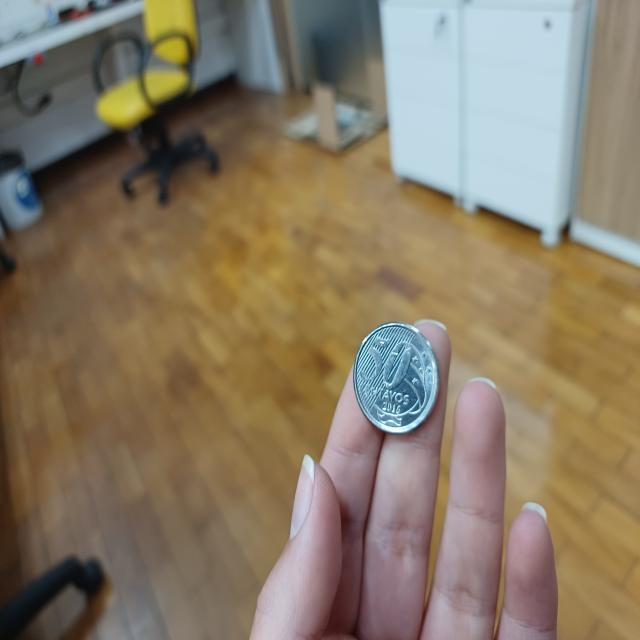50 cents: (354, 318, 442, 439)
